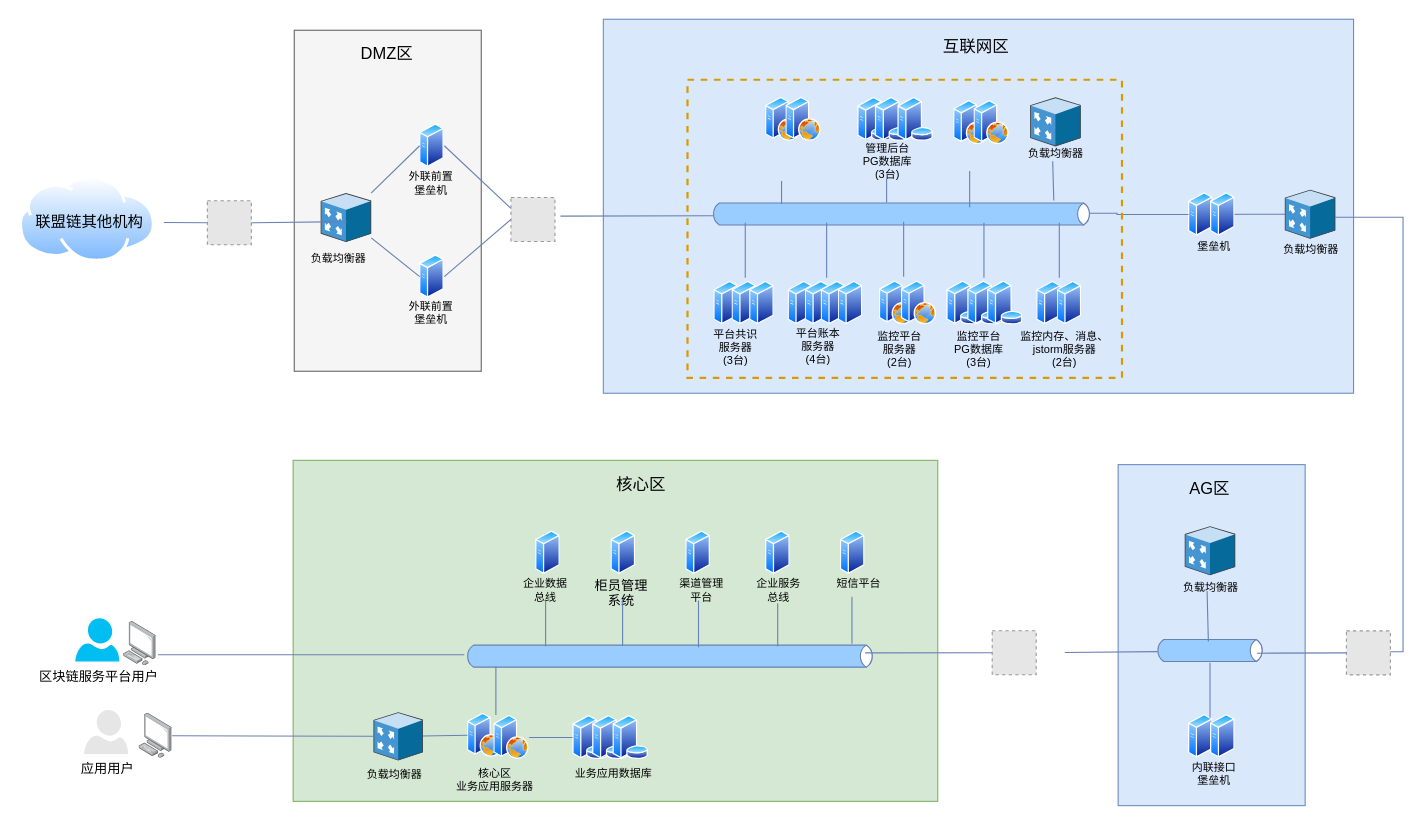
The diagram is 1423 pixels wide and 825 high, and some of its shapes have lost their labels. Grey dashed boxes stand in for pictures. The box of each missing label's shape, as (x1, y1, x2, y2) in pixels:
区块链代理 (2台): (937, 144, 1003, 170)
区块链服务平台 管理后台 (2台): (738, 141, 826, 180)
